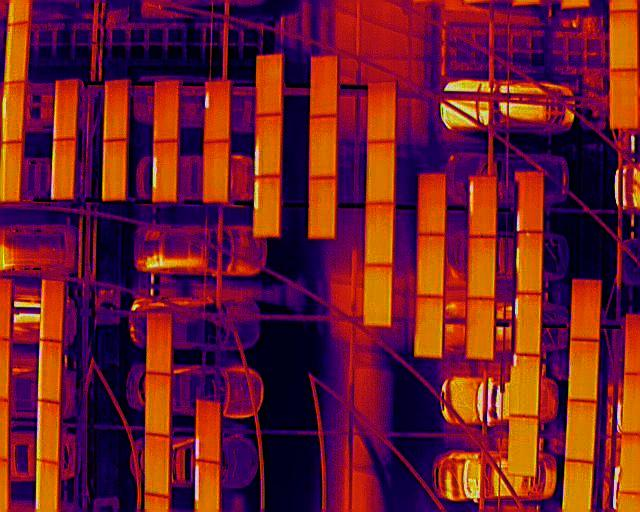Cell: (512, 354, 541, 417)
No-Anomaly: (568, 340, 600, 401), (566, 401, 598, 462), (571, 278, 602, 340), (417, 233, 446, 298), (466, 235, 495, 300), (365, 203, 394, 267), (363, 265, 392, 328), (308, 176, 336, 241), (416, 297, 445, 359), (367, 142, 395, 206), (367, 81, 396, 142), (418, 173, 447, 234), (310, 56, 339, 117), (610, 67, 639, 128), (467, 299, 496, 359), (309, 116, 337, 178), (610, 9, 638, 71), (145, 372, 172, 436), (153, 81, 180, 144), (510, 417, 538, 476), (145, 434, 171, 497), (256, 54, 282, 116), (147, 312, 173, 373), (53, 78, 78, 141), (4, 21, 29, 84), (204, 140, 229, 202), (40, 280, 65, 341), (0, 140, 23, 203), (104, 79, 127, 140), (104, 139, 126, 202), (521, 173, 544, 231), (36, 460, 60, 512)
Unclassified: (516, 232, 544, 293), (515, 294, 543, 355), (255, 112, 282, 175), (204, 81, 231, 142), (254, 176, 281, 237), (469, 177, 496, 238), (0, 81, 26, 142), (195, 400, 221, 461), (153, 140, 178, 202), (51, 138, 76, 199), (38, 341, 63, 402), (35, 403, 60, 462), (195, 461, 220, 512)
